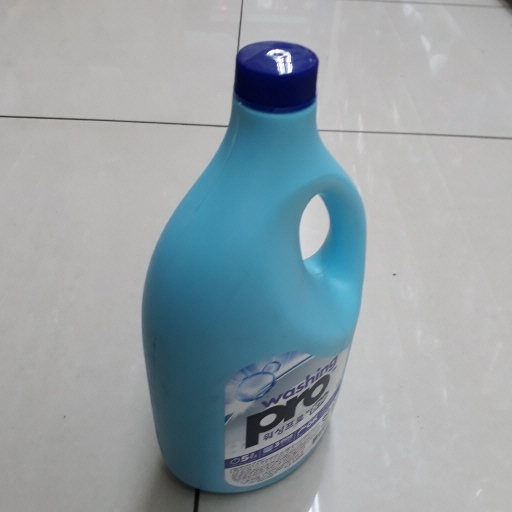Plastic_1: (137, 39, 367, 498)
